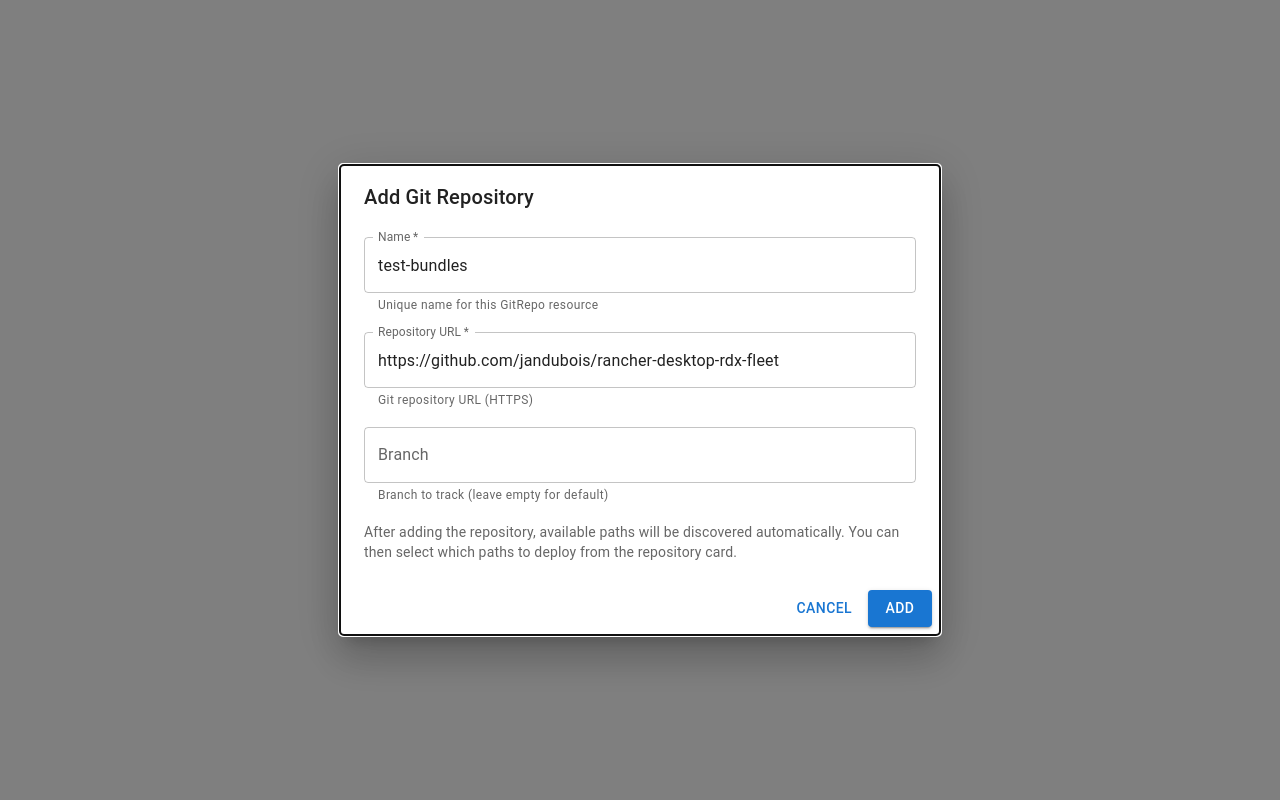
AddRepoDialog › displays error message when add fails
What coordinates should you click on to do the following:
click the button "Add"
I would click on:
 (900, 608)
Its box is [868,590,932,627].
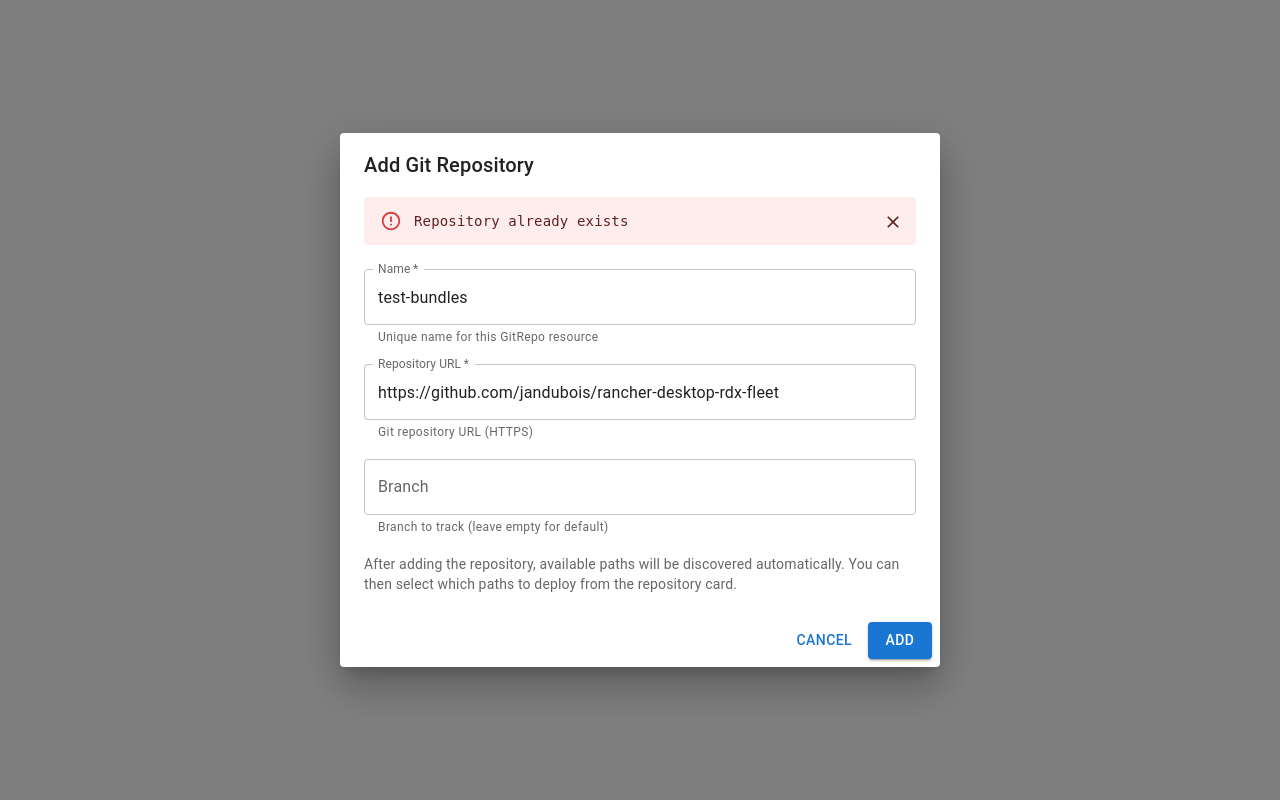
Result: the text "Repository already exists" is shown at [414,213,628,229]
